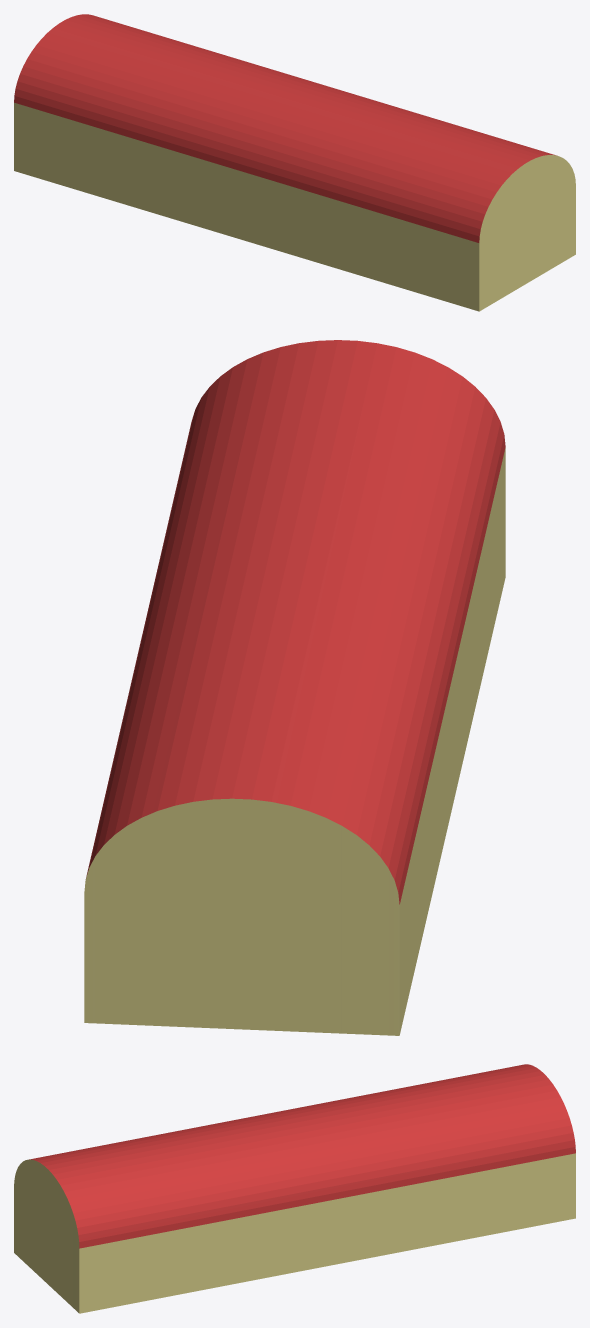
3 renders of one model, top to bottom at view 1: azimuth 30°, elevation 25°; view 2: azimuth 150°, elevation 25°; view 3: azimuth 270°, elevation 25°, orthographic. The views are drawn at different scales.
Bounding box in the file's own units: 20.49 × 31.15 × 7.04.
